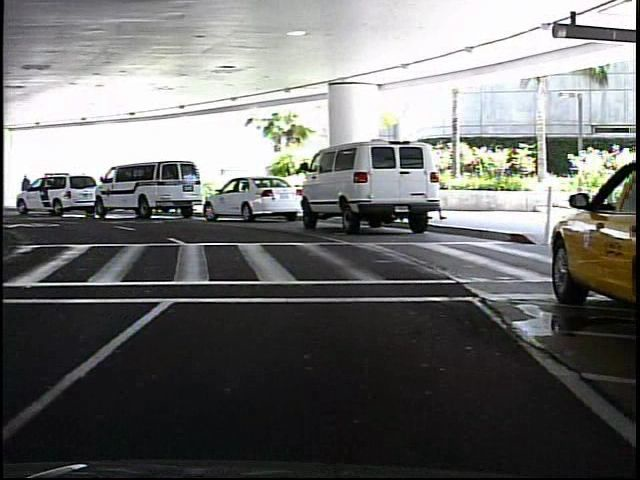person: (20, 170, 38, 208)
